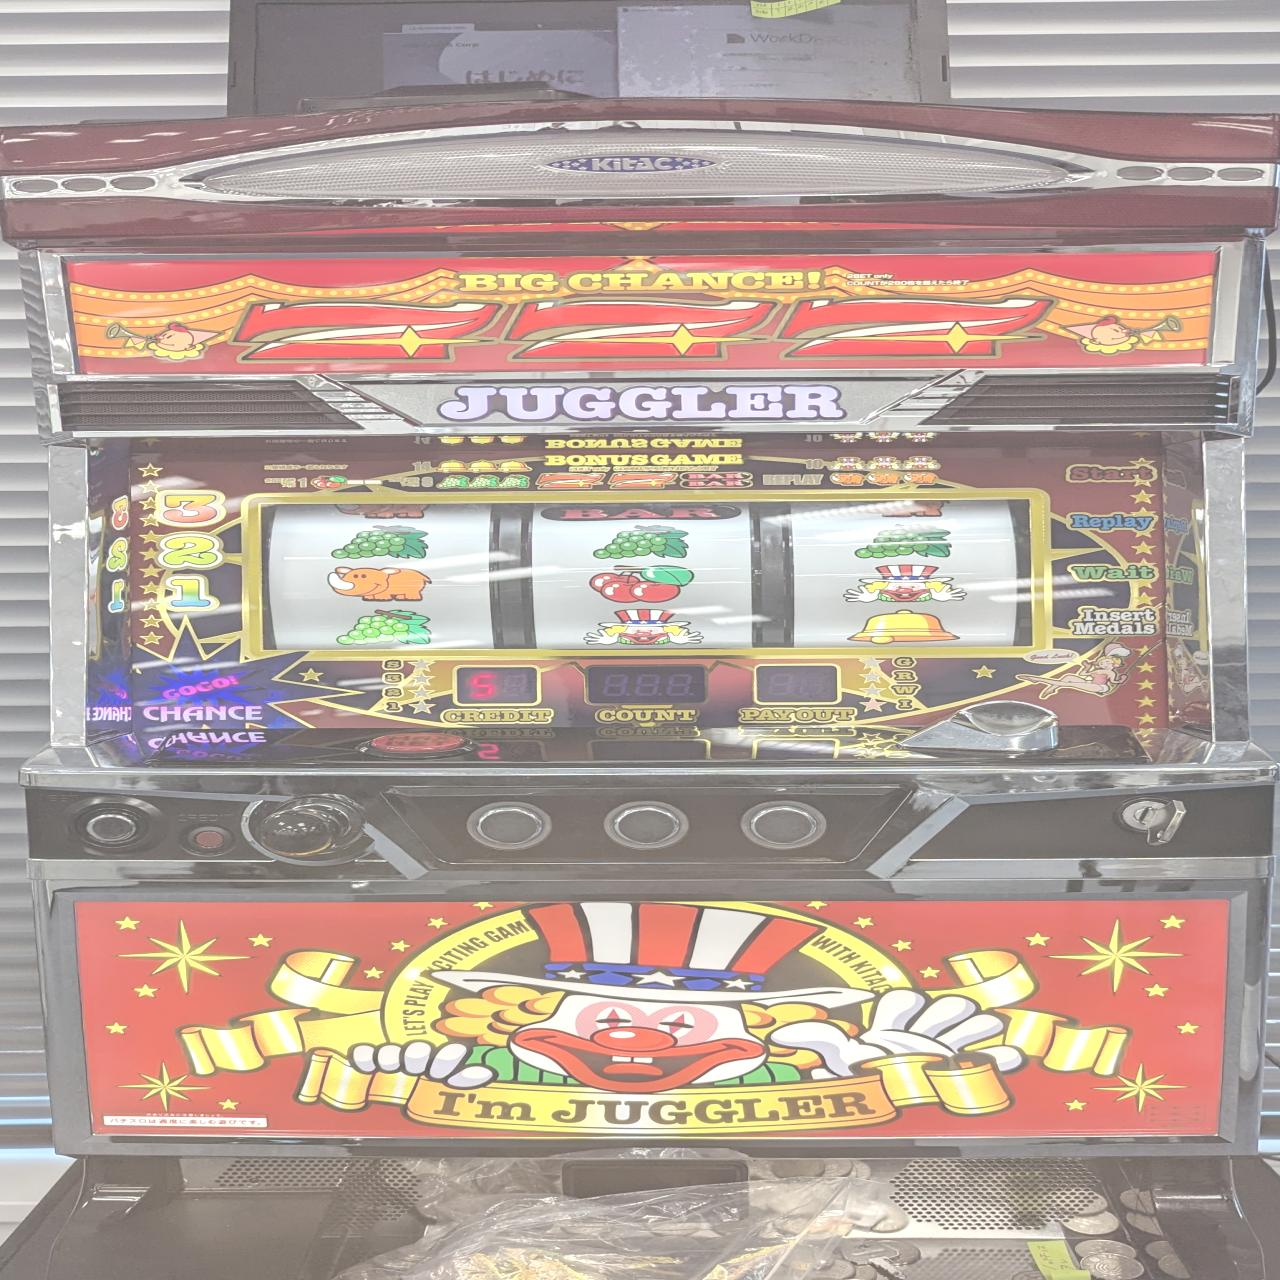Display: (257, 496, 1040, 652)
bell: (838, 608, 967, 648)
cherry: (586, 564, 701, 604)
clown: (836, 564, 969, 606), (580, 606, 706, 645)
grape: (846, 522, 965, 560), (333, 607, 437, 648), (328, 523, 433, 560), (588, 523, 693, 560)
rhino: (318, 565, 435, 605)
